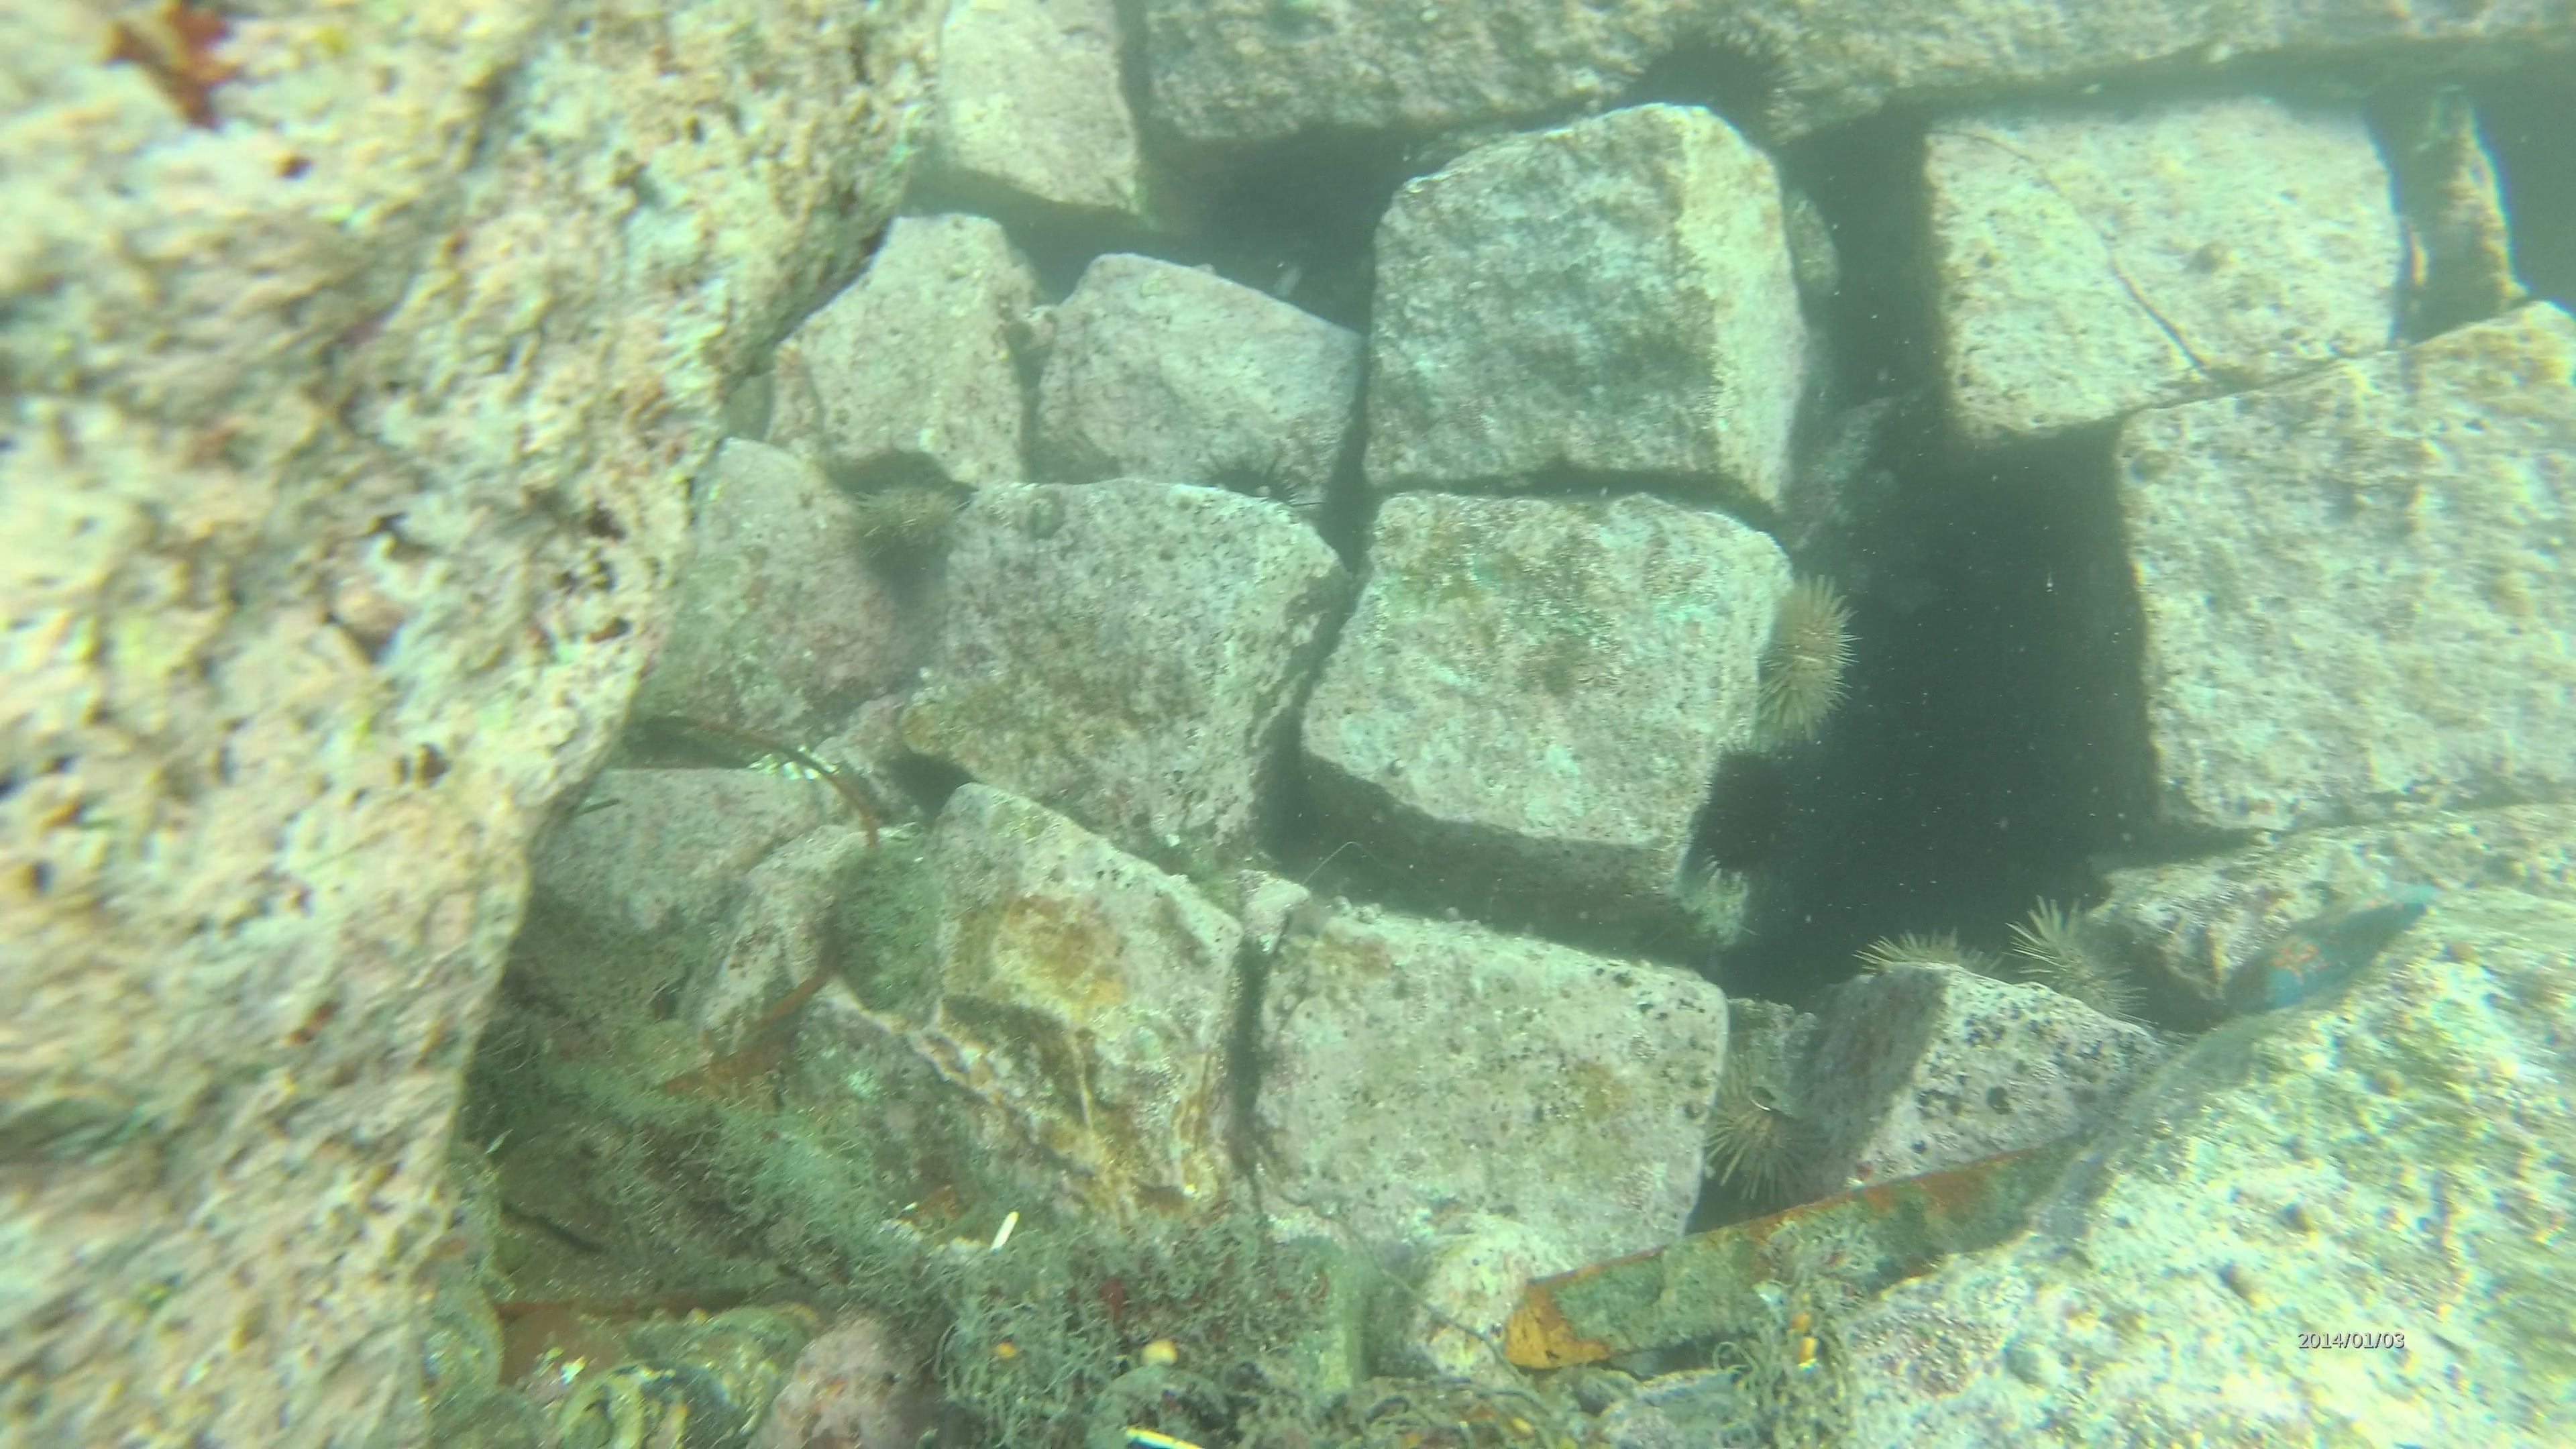echinus: (1614, 14, 1806, 166), (1994, 892, 2155, 1058), (1743, 566, 1868, 754), (1691, 1062, 1836, 1210), (1845, 918, 1996, 1042), (1686, 741, 1810, 883), (839, 476, 971, 596), (1201, 441, 1320, 524)
starfish: (2210, 876, 2440, 1030)
